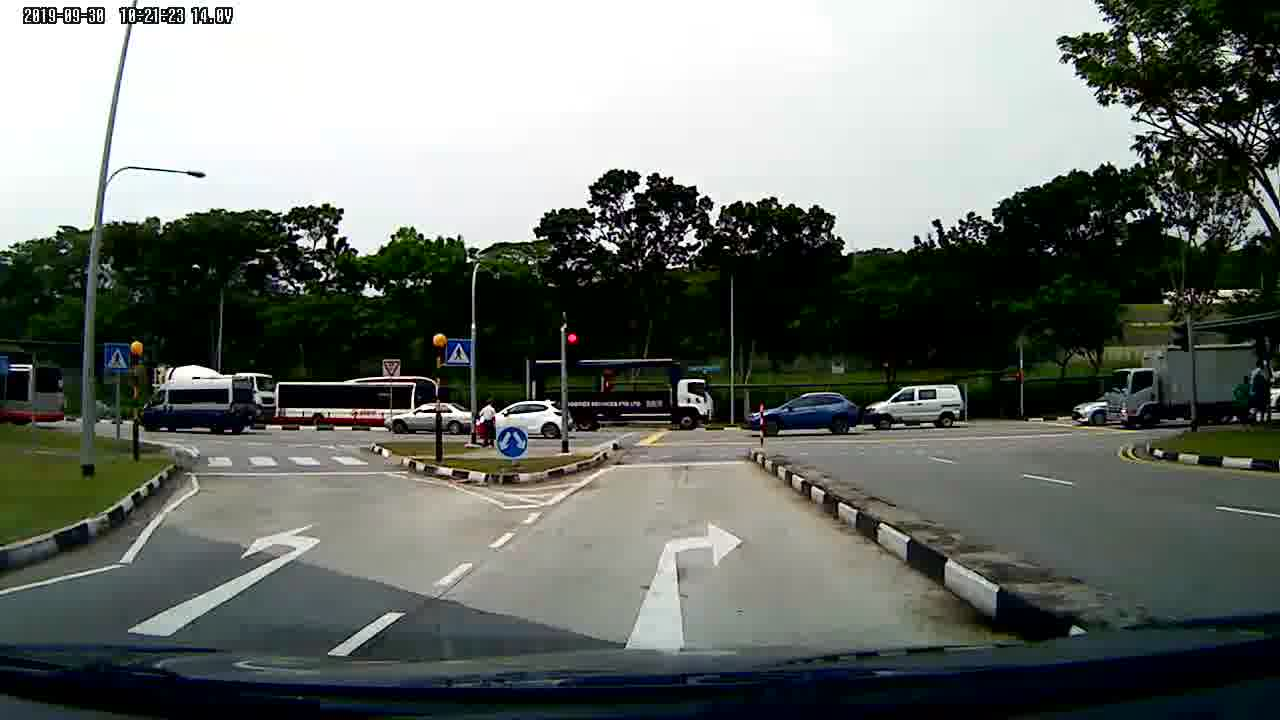bus: (274, 375, 440, 429), (1, 362, 70, 429)
car: (747, 395, 865, 440), (495, 401, 577, 438), (387, 404, 474, 438)
